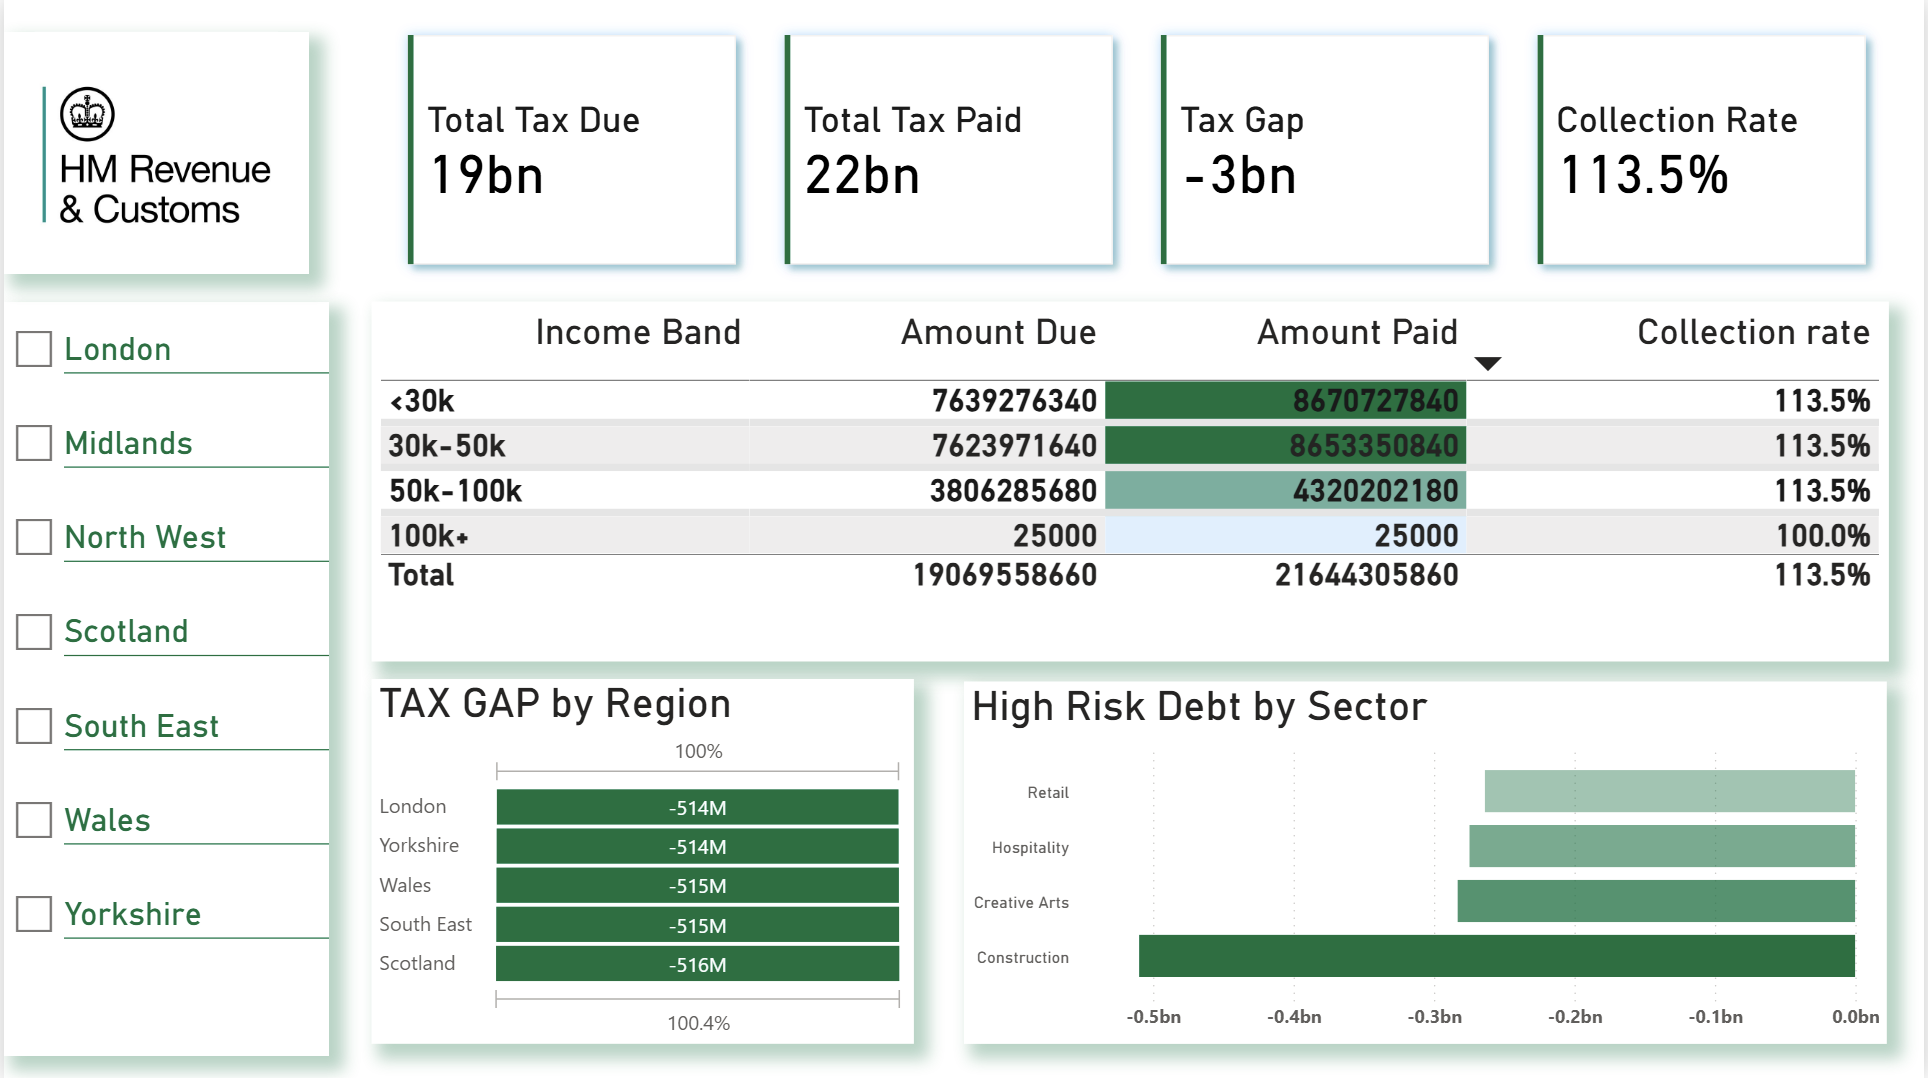

What the dashboard file says about the page in this screenshot:
{"tool":"powerbi","page":{"name":"Executive Compliance Overview","canvas":[1280,720],"ordinal":0},"visuals":[{"type":"cardVisual","fields":{"Data":["Sum(HMRC TAXDUE/TAXPAID.AmountDue)","Sum(HMRC TAXDUE/TAXPAID.AmountPaid)","HMRC TAXDUE/TAXPAID.TAX GAP","HMRC TAXDUE/TAXPAID.Collection rate"]},"box":[245,0,1020,201.7],"z":0},{"type":"slicer","fields":{"Values":["HMRC TAX_PAYER.Region"]},"box":[0,201.7,216.7,503.3],"z":1000},{"type":"tableEx","fields":{"Values":["HMRC TAX_PAYER.IncomeBand","Sum(HMRC TAXDUE/TAXPAID.AmountDue)","Sum(HMRC TAXDUE/TAXPAID.AmountPaid)","HMRC TAXDUE/TAXPAID.Collection rate"]},"box":[245,201.7,1011.7,240],"z":2000},{"type":"barChart","fields":{"Category":["HMRC TAX_PAYER.Sector"],"Y":["HMRC TAX_PAYER.High Risk Debt"]},"box":[640,455,615,241.7],"z":3000},{"type":"funnel","fields":{"Y":["HMRC TAXDUE/TAXPAID.TAX GAP"],"Category":["HMRC TAX_PAYER.Region"]},"box":[245,453.3,361.7,243.3],"z":4000},{"type":"image","box":[0,21.7,203.3,161.7],"z":5000}]}

Visuals, with their boxes in screenshot pixels (x1, y1, x2, y2), scaled from the page's 1280x720 canvas onto the 1928x1078 screenshot:
cardVisual - Sum(HMRC TAXDUE/TAXPAID.AmountDue) x Sum(HMRC TAXDUE/TAXPAID.AmountPaid): select_region(369, 0, 1905, 302)
slicer - HMRC TAX_PAYER.Region: select_region(0, 302, 326, 1056)
tableEx - HMRC TAX_PAYER.IncomeBand x Sum(HMRC TAXDUE/TAXPAID.AmountDue): select_region(369, 302, 1893, 661)
barChart - HMRC TAX_PAYER.Sector x HMRC TAX_PAYER.High Risk Debt: select_region(964, 681, 1890, 1043)
funnel - HMRC TAXDUE/TAXPAID.TAX GAP x HMRC TAX_PAYER.Region: select_region(369, 679, 914, 1043)
image: select_region(0, 32, 306, 275)
